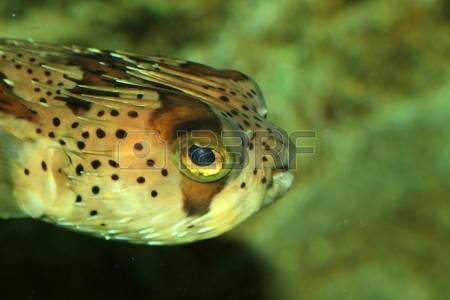Diodon_holocanthus: (1, 26, 317, 257)
